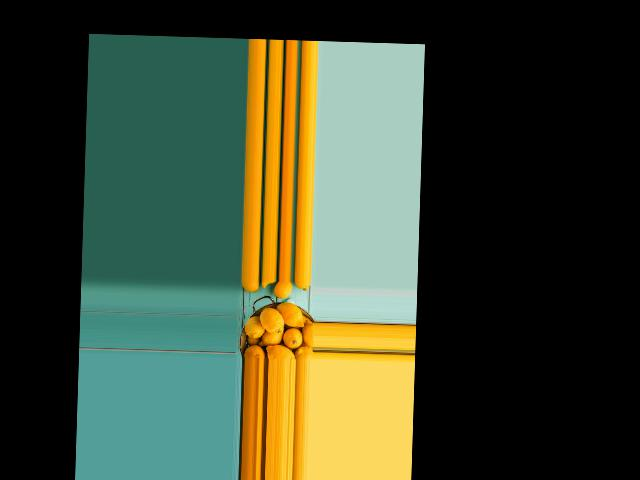lemon: (290, 346, 312, 361)
